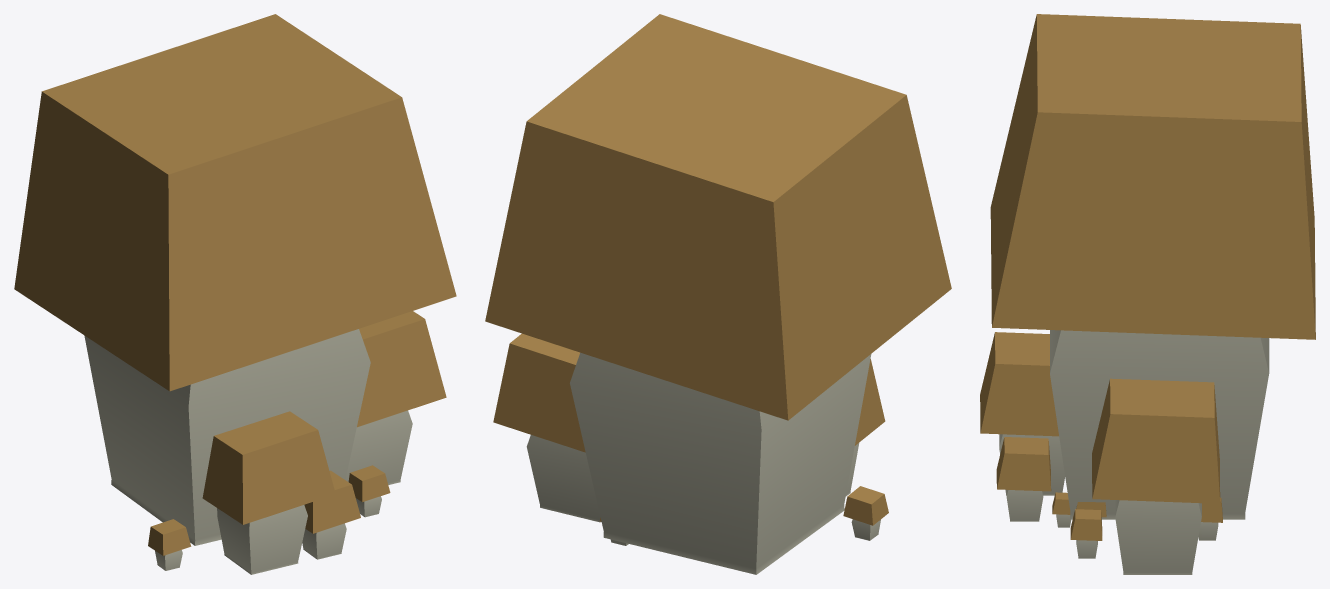
Rendered from shrooms_02.fbx.
3 views of the same model, side by side, from view 1: azimuth 30°, elevation 25°; view 2: azimuth 150°, elevation 25°; view 3: azimuth 270°, elevation 25° (orthographic). The views are drawn at different scales.
Visible parts, largest first — view 1: pCube2 (×6), pCube1 (×4); view 2: pCube2 (×4), pCube1 (×2); view 3: pCube2 (×6), pCube1 (×4).
Boxes of the visible parts, left/top/right/bottom form: pCube2 (×6): left=14, top=14, right=456, bottom=555; pCube1 (×4): left=84, top=329, right=412, bottom=574; pCube2 (×4): left=485, top=14, right=951, bottom=525; pCube1 (×2): left=526, top=352, right=871, bottom=574; pCube2 (×6): left=980, top=14, right=1315, bottom=540; pCube1 (×4): left=999, top=330, right=1269, bottom=574.
Bounding box in the file's own units: 27.06 × 34.18 × 23.18.
